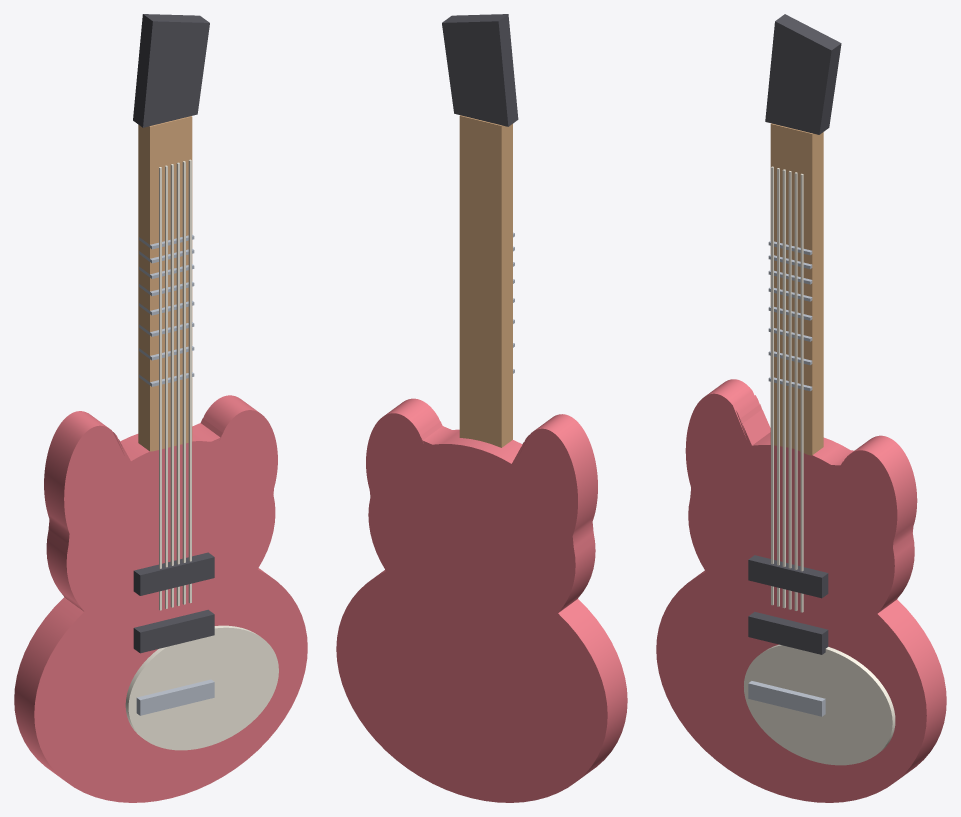
The model's file is guitar.glb.
3 renders of one model, left to right at view 1: azimuth 30°, elevation 25°; view 2: azimuth 150°, elevation 25°; view 3: azimuth 330°, elevation 25°, orthographic.
Parts seen in each view (by area): view 1: guitar; view 2: guitar; view 3: guitar.
Part boxes in pixels (box(x1,y1,x2,y2)): guitar: box(14, 14, 307, 802); guitar: box(336, 14, 627, 802); guitar: box(656, 14, 946, 802).
Bounding box in the file's own units: 1.1 × 3 × 0.185.
